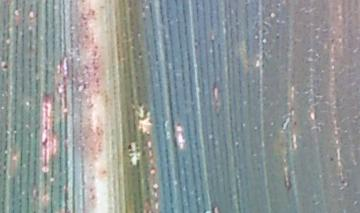tarspot: (126, 140, 133, 155)
